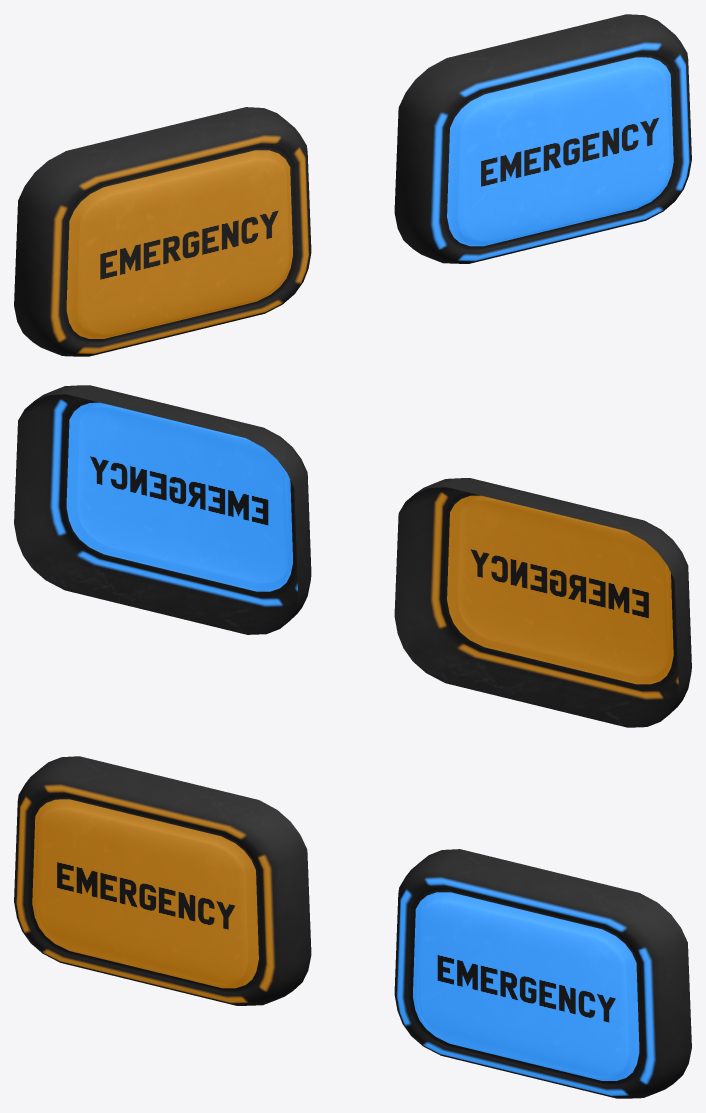
Rendered from SM_ermergency_light_embedded.fbx.
3 views of the same model, one above another, from view 1: azimuth 30°, elevation 25°; view 2: azimuth 150°, elevation 25°; view 3: azimuth 330°, elevation 25° (orthographic).
Visible parts, largest first — view 1: SM_ermergency_light, SM_ermergency_light.001; view 2: SM_ermergency_light.001, SM_ermergency_light; view 3: SM_ermergency_light.001, SM_ermergency_light.
Part boxes in pixels (x1,y1,x2,y2): SM_ermergency_light: [14, 107, 311, 356]; SM_ermergency_light.001: [394, 14, 691, 263]; SM_ermergency_light.001: [14, 385, 311, 634]; SM_ermergency_light: [394, 478, 691, 727]; SM_ermergency_light.001: [394, 849, 691, 1098]; SM_ermergency_light: [14, 756, 311, 1005].
Bounding box in the file's own units: 94.35 × 26.64 × 6.96.
2 materials, 2 textured.
